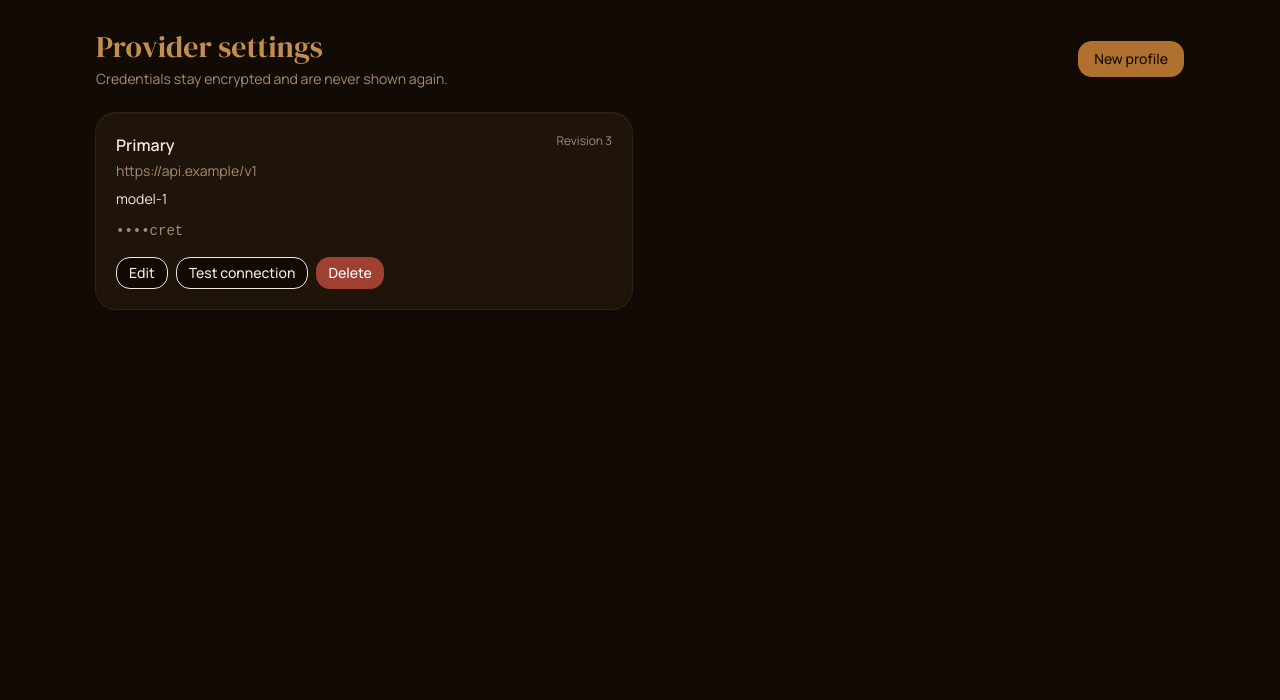
it: SettingsPage › edits without sending an empty API key and tests connection
Expected: the heading "Primary" is shown, [116,134,174,156]
Click the button with aria-label "Edit Primary" at (142, 273), box [116,257,168,289]
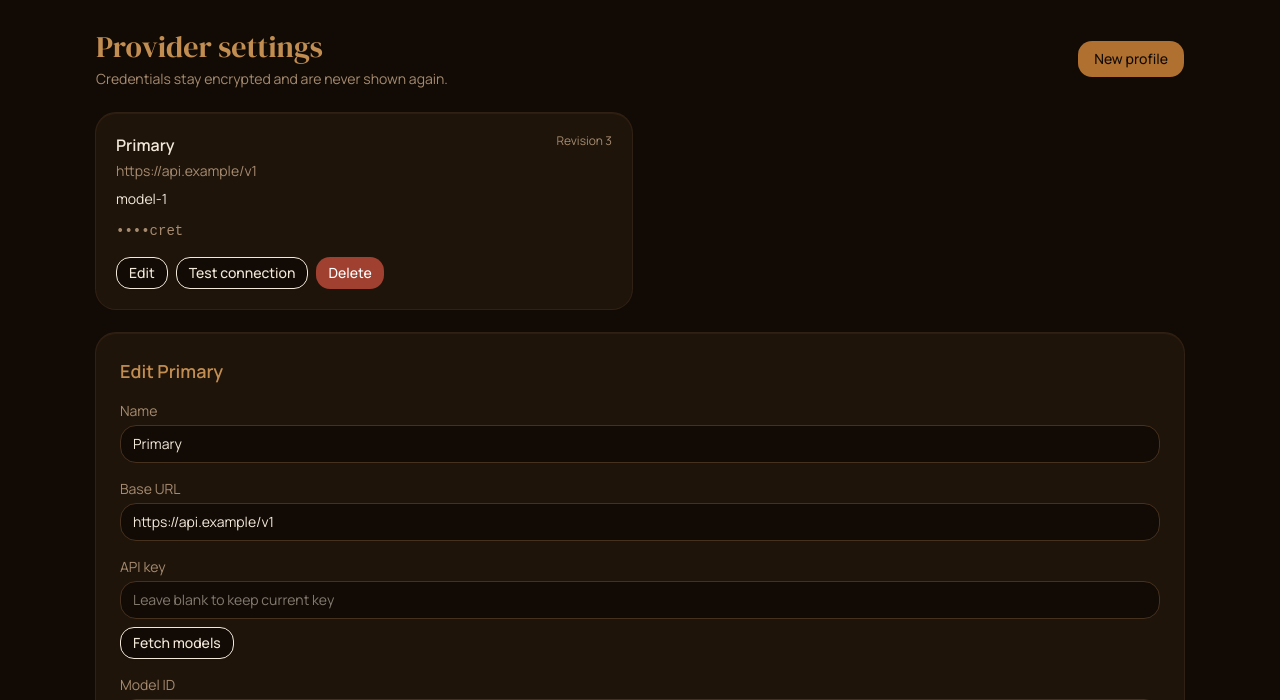
Expected: the password field labelled "API key" is empty, [120,581,1160,619]
Replace the text in the field labelled "Name" with "Renamed" at (640, 444), box [120,425,1160,463]
(page scrolled)
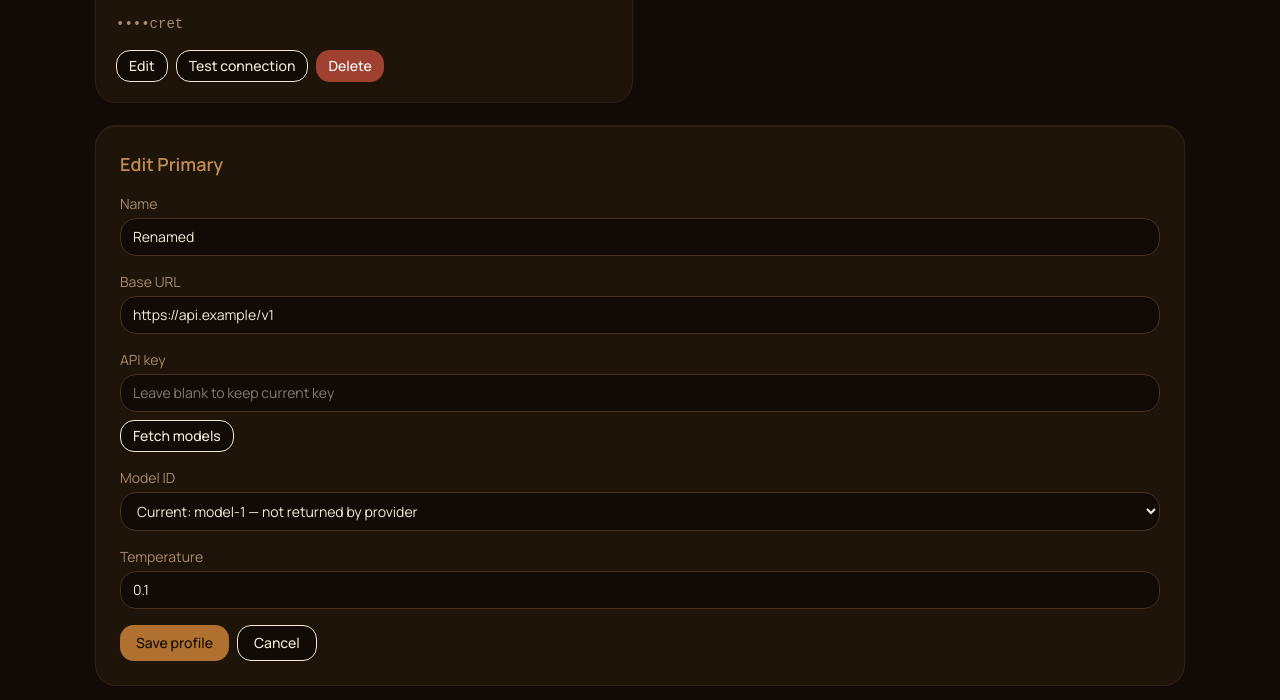
Click the button "Save profile" at (174, 643), box [120,625,229,661]
(page scrolled)
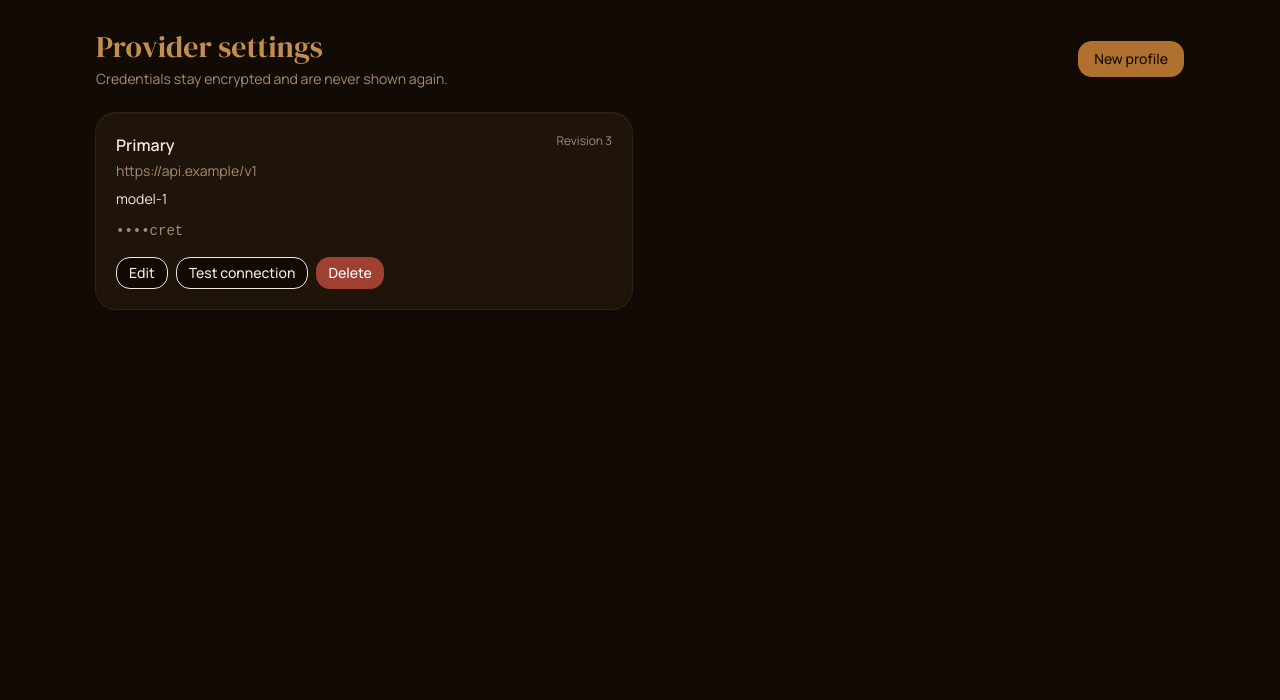
Click the button with aria-label "Test Primary" at (242, 273), box [176,257,308,289]
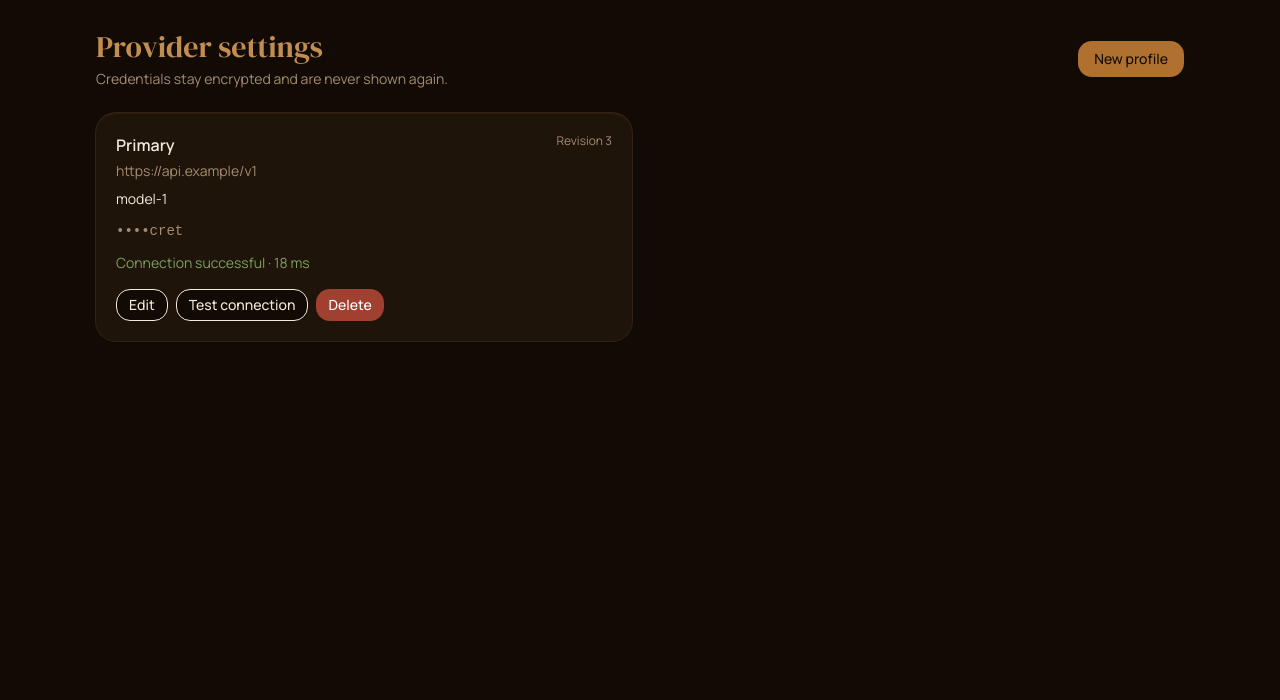
Expected: the text "Connection successful · 18 ms" is shown, [116,253,310,272]
